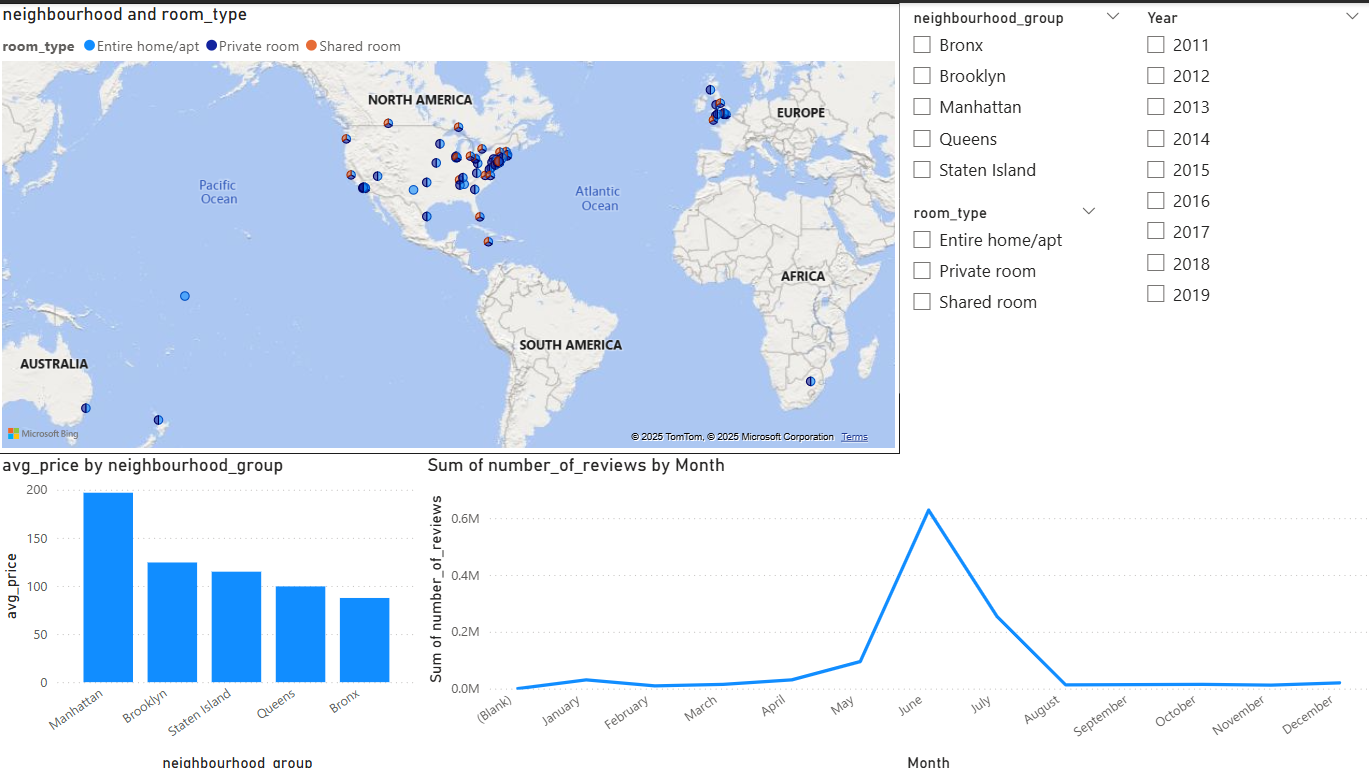

The dashboard page shown, as its layout file describes it:
{"tool":"powerbi","page":{"name":"Page 1","canvas":[1280,720],"ordinal":0},"visuals":[{"type":"map","title":"neighbourhood map","fields":{"Category":["ab_nyc_cleaned.neighbourhood"],"Series":["ab_nyc_cleaned.room_type"]},"box":[0,0,840,420],"z":0},{"type":"slicer","fields":{"Values":["ab_nyc_cleaned.neighbourhood_group"]},"box":[841.7,53.3,218.3,203.3],"z":1000},{"type":"clusteredColumnChart","fields":{"Y":["ab_nyc_cleaned.avg_price"],"Category":["ab_nyc_cleaned.neighbourhood_group"]},"box":[0,420,395.7,300],"z":2000},{"type":"lineChart","title":"reviews by Month","fields":{"Category":["ab_nyc_cleaned.new_last_review.Variation.Date Hierarchy.Month"],"Y":["Sum(ab_nyc_cleaned.number_of_reviews)"]},"box":[395.7,420,884.3,300],"z":3000},{"type":"slicer","fields":{"Values":["ab_nyc_cleaned.new_last_review.Variation.Date Hierarchy.Year"]},"box":[1056.7,51.7,223.3,368.3],"z":4000},{"type":"slicer","fields":{"Values":["ab_nyc_cleaned.room_type"]},"box":[840,255,216.7,165],"z":5000},{"type":"textbox","box":[841.7,0,438.3,53.3],"z":5001}]}

Visuals, with their boxes in screenshot pixels (x1, y1, x2, y2), scaled from the page's 1280x720 canvas onto the 1369x768 screenshot:
"neighbourhood map" map: [x1=0, y1=0, x2=898, y2=448]
slicer - ab_nyc_cleaned.neighbourhood_group: [x1=900, y1=57, x2=1134, y2=274]
clusteredColumnChart - ab_nyc_cleaned.avg_price x ab_nyc_cleaned.neighbourhood_group: [x1=0, y1=448, x2=423, y2=767]
"reviews by Month" lineChart: [x1=423, y1=448, x2=1368, y2=767]
slicer - ab_nyc_cleaned.new_last_review.Variation.Date Hierarchy.Year: [x1=1130, y1=55, x2=1368, y2=448]
slicer - ab_nyc_cleaned.room_type: [x1=898, y1=272, x2=1130, y2=448]
textbox: [x1=900, y1=0, x2=1368, y2=57]
